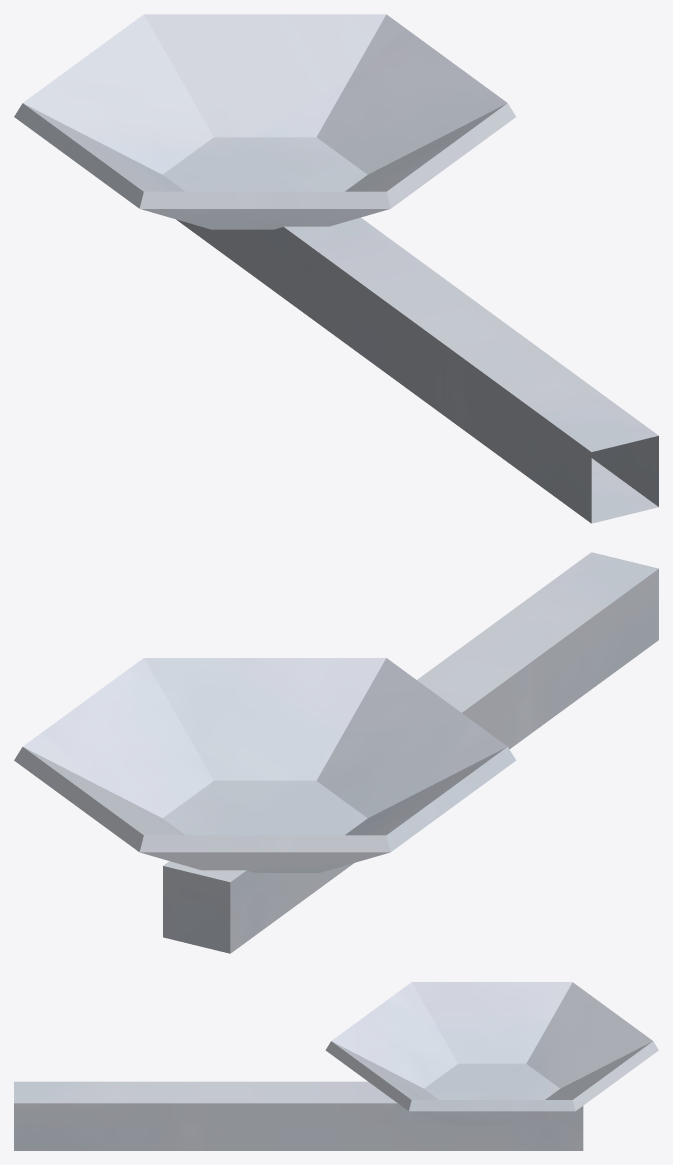
Rendered from Carrier_03.glb.
3 views of the same model, one above another, from view 1: azimuth 30°, elevation 25°; view 2: azimuth 150°, elevation 25°; view 3: azimuth 270°, elevation 25° (orthographic). The views are drawn at different scales.
Visible parts, largest first — view 1: Carrier_03; view 2: Carrier_03; view 3: Carrier_03.
Boxes of the visible parts, <box> form: Carrier_03: <box>14,14,658,523</box>; Carrier_03: <box>14,552,658,953</box>; Carrier_03: <box>14,982,658,1150</box>.
Size of the model in its own units: 0.0551 by 0.0208 by 0.123.
1 material, 1 textured.
